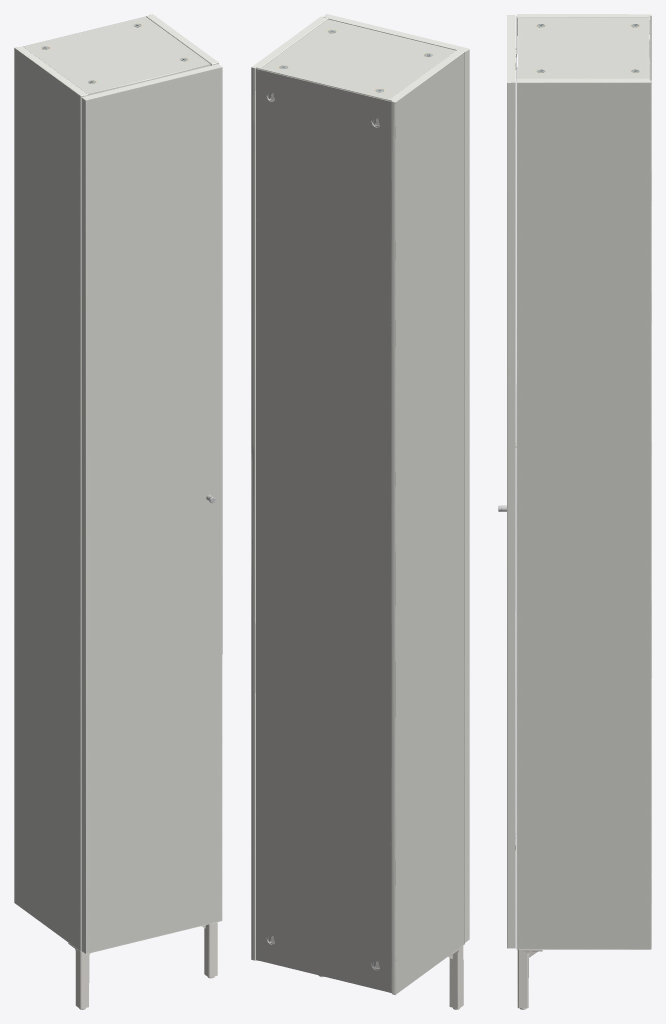
File: nysjon_szafka_wysoka_20470815.glb
3 views of the same model, side by side, from view 1: azimuth 30°, elevation 25°; view 2: azimuth 150°, elevation 25°; view 3: azimuth 270°, elevation 25° (orthographic). The views are drawn at different scales.
Parts seen in each view (by area): view 1: nysjon_szafka_wysoka_20470815; view 2: nysjon_szafka_wysoka_20470815; view 3: nysjon_szafka_wysoka_20470815.
Part boxes in pixels (box(x1,y1,x2,y2)): nysjon_szafka_wysoka_20470815: box(14, 14, 222, 1009); nysjon_szafka_wysoka_20470815: box(251, 14, 469, 1009); nysjon_szafka_wysoka_20470815: box(498, 14, 651, 1009).
Bounding box in the file's own units: 0.3003 × 1.9 × 0.2839.
2 materials, 2 textured.
